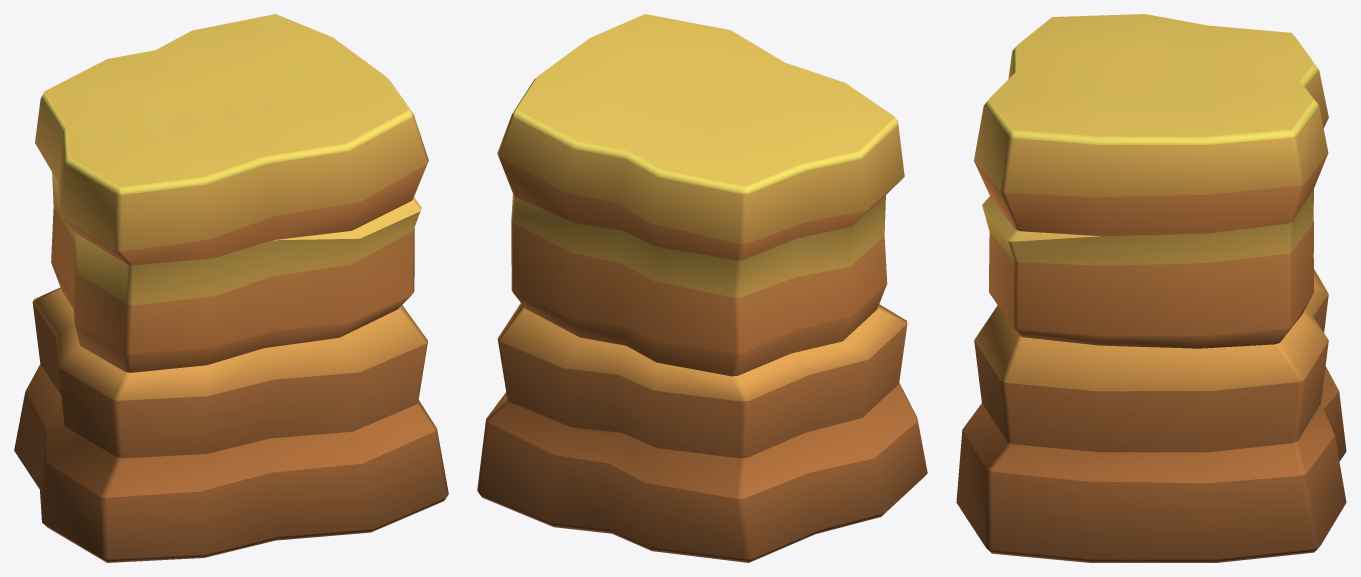
Rendered from rock_formation_light_04.fbx.
3 renders of one model, left to right at view 1: azimuth 30°, elevation 25°; view 2: azimuth 150°, elevation 25°; view 3: azimuth 270°, elevation 25°, orthographic. The views are drawn at different scales.
Visible parts, largest first — view 1: rock_formation_light_04; view 2: rock_formation_light_04; view 3: rock_formation_light_04.
Part boxes in pixels (x1,y1,x2,y2): rock_formation_light_04: (14, 14, 448, 562); rock_formation_light_04: (477, 14, 927, 562); rock_formation_light_04: (956, 14, 1346, 562).
Size of the model in its own units: 737 by 782 by 670.
